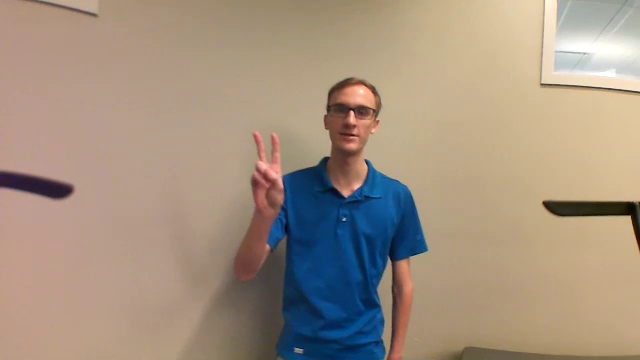peace: (242, 126, 292, 221)
